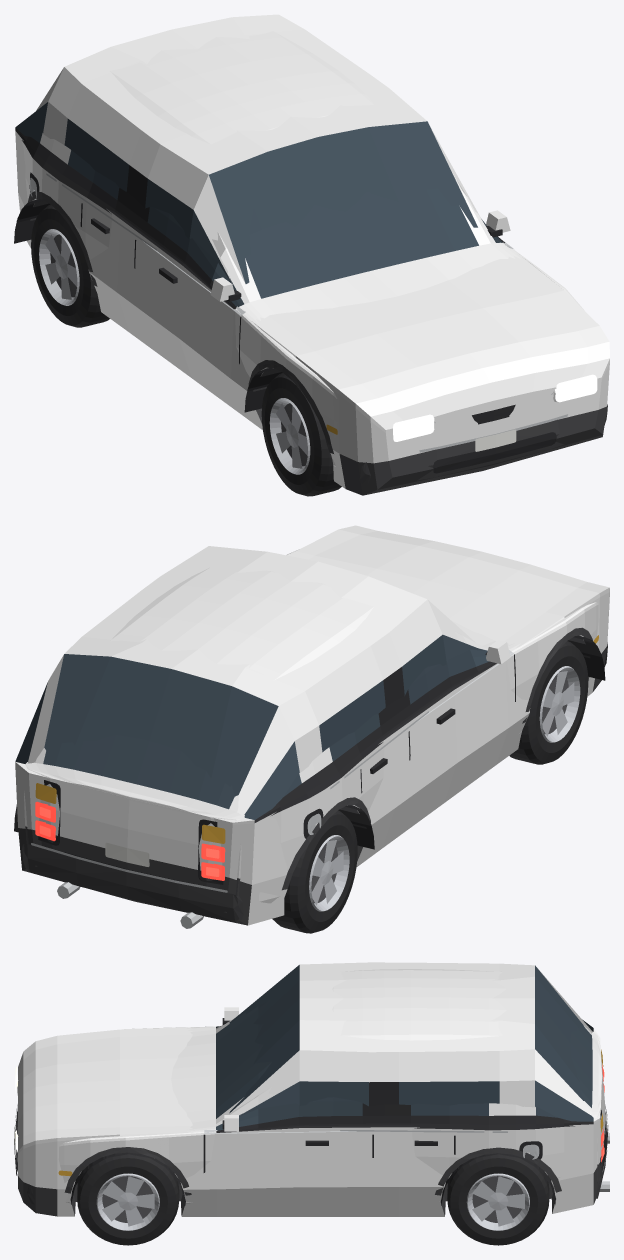
File: cuiabano.glb
The picture shows the model from 3 angles, top to bottom: view 1: azimuth 30°, elevation 25°; view 2: azimuth 150°, elevation 25°; view 3: azimuth 270°, elevation 25°; orthographic projection. The views are drawn at different scales.
Visible parts, largest first — view 1: body.001, body, glass.001, glass, details, wheel_fr, wheel_rr, lamp_head.001, wheel_wells.001; view 2: body.001, body, glass.001, details, glass, wheel_rr, wheel_fr, lamp_tail, wheel_wells.001; view 3: body.001, body, glass.001, glass, wheel_fl, wheel_rl, details, wheel_wells, wheel_wells.001.
Part boxes in pixels (x1,y1,x2,y2): body.001: (15,14,609,495); body: (20,31,584,466); glass.001: (15,102,500,305); glass: (31,132,502,306); details: (27,172,607,485); wheel_fr: (261,373,341,496); wheel_rr: (31,204,109,327); lamp_head.001: (393,374,597,441); wheel_wells.001: (14,199,282,412); body.001: (15,525,609,925); body: (24,549,598,903); glass.001: (15,634,491,819); details: (22,627,607,928); glass: (27,649,489,814); wheel_rr: (272,810,357,933); wheel_fr: (509,641,588,764); lamp_tail: (35,780,225,884); wheel_wells.001: (16,635,605,849); body.001: (18,962,600,1216); body: (58,969,605,1203); glass.001: (229,965,593,1121); glass: (216,998,592,1130); wheel_fl: (77,1154,179,1245); wheel_rl: (447,1154,549,1245); details: (14,1007,609,1204); wheel_wells: (71,1152,555,1205); wheel_wells.001: (71,1154,555,1204).
Size of the model in its own units: 1.98 by 1.61 by 4.38.
